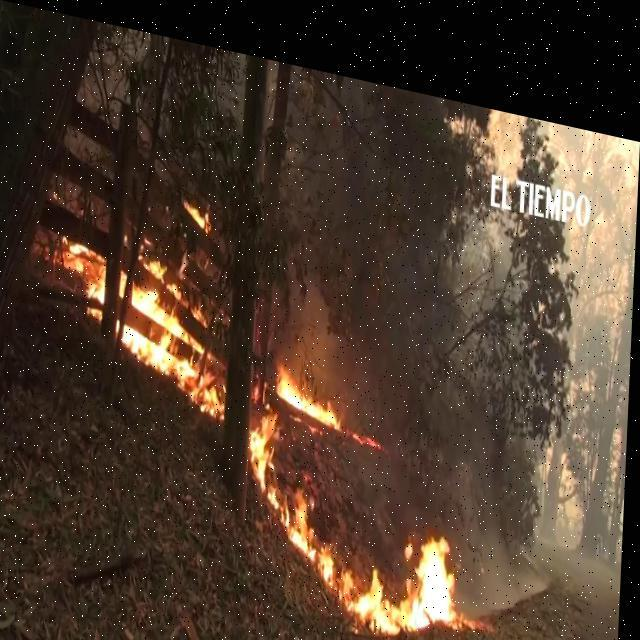Fire: (292, 478, 466, 634), (117, 239, 231, 406), (278, 351, 345, 415), (60, 232, 110, 316), (251, 396, 288, 498), (352, 410, 394, 440), (181, 184, 213, 222)
